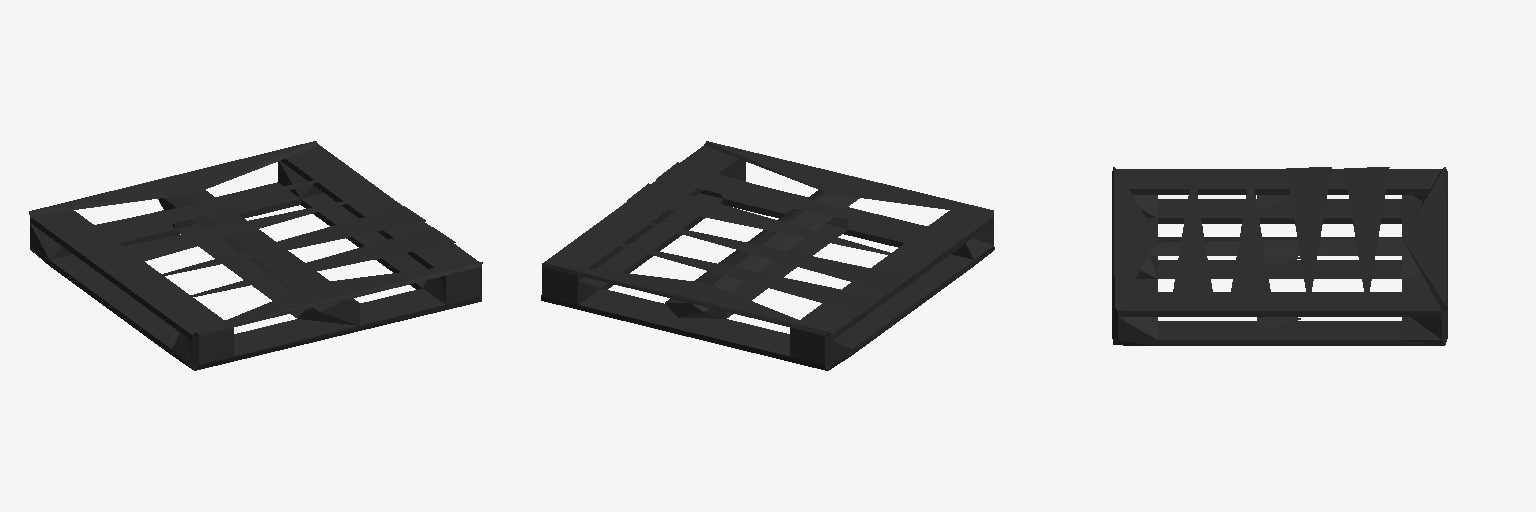
The model's file is palette_LoD_3.obj.
The picture shows the model from 3 angles: view 1: azimuth 30°, elevation 25°; view 2: azimuth 150°, elevation 25°; view 3: azimuth 270°, elevation 25°; orthographic projection.
Parts seen in each view (by area): view 1: SM_WoodenPalette_Mesh; view 2: SM_WoodenPalette_Mesh; view 3: SM_WoodenPalette_Mesh.
Boxes of the visible parts, <box> form: SM_WoodenPalette_Mesh: <box>29,141,482,370</box>; SM_WoodenPalette_Mesh: <box>541,141,994,370</box>; SM_WoodenPalette_Mesh: <box>1112,167,1447,345</box>.
Size of the model in its own units: 1.25 by 0.16 by 1.25.